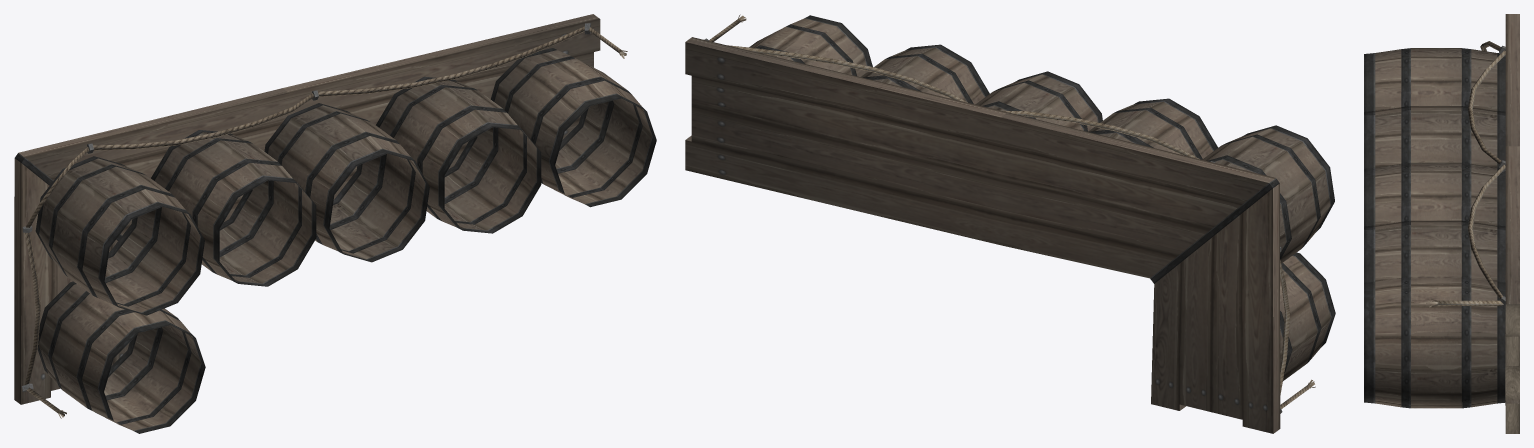
The model's file is BarCOrner_C.fbx.
3 renders of one model, left to right at view 1: azimuth 30°, elevation 25°; view 2: azimuth 150°, elevation 25°; view 3: azimuth 270°, elevation 25°, orthographic. The views are drawn at different scales.
Visible parts, largest first — view 1: BarCOrner_C; view 2: BarCOrner_C; view 3: BarCOrner_C.
Boxes of the visible parts, x1,y1,x2,y2 form: BarCOrner_C: (14,14,656,433); BarCOrner_C: (685,14,1335,433); BarCOrner_C: (1364,14,1519,433).
Bounding box in the file's own units: 5.22 × 2.12 × 1.18.
